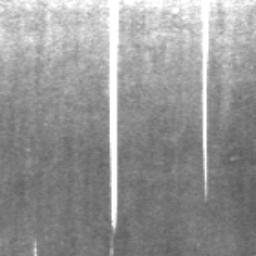Bright scratch: (109, 0, 118, 231), (201, 0, 209, 192)
